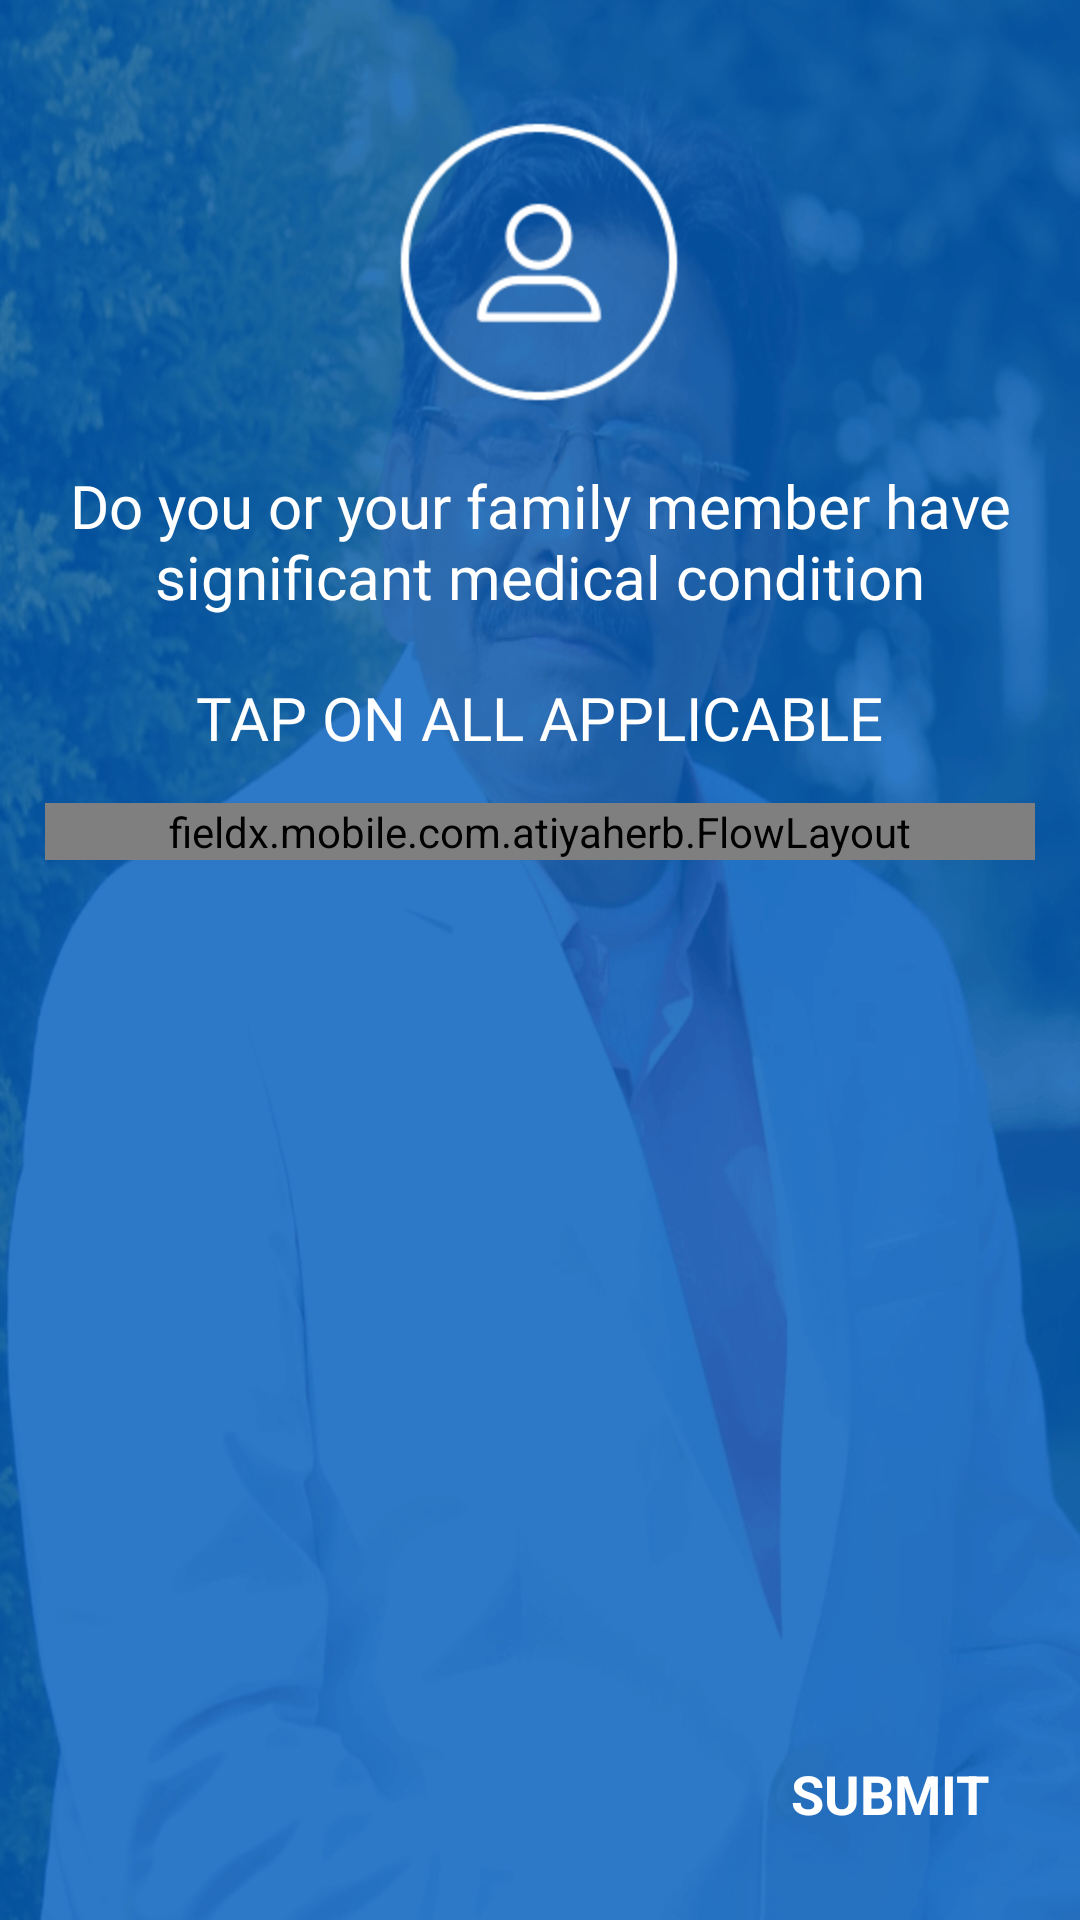

Named icons in this screenshot (1080×1920) and their centers, [x,y]:
user circle: [540,261]
